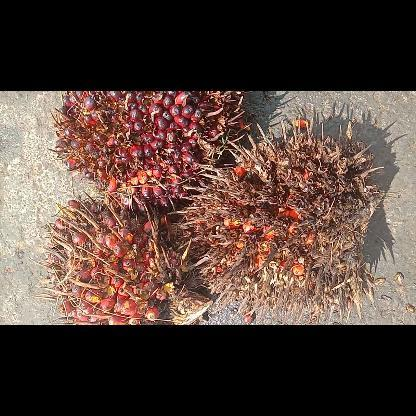TBS masak: (48, 91, 244, 213), (32, 192, 212, 324)
Terlalu masak: (171, 118, 383, 324)
